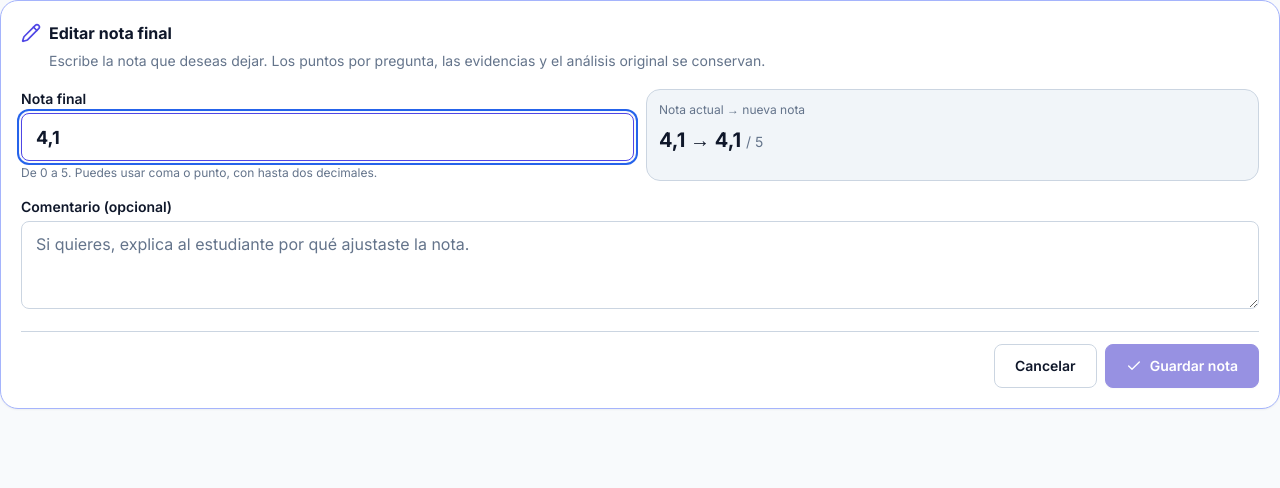
Test: GradeFinalEditor › termina el estado de guardado aunque falle la preparación local, sin enviar nada
The image size is (1280, 488).
Replace the text in the field labelled "Nota final" with "4.5" at (328,137), box [21,113,634,161]
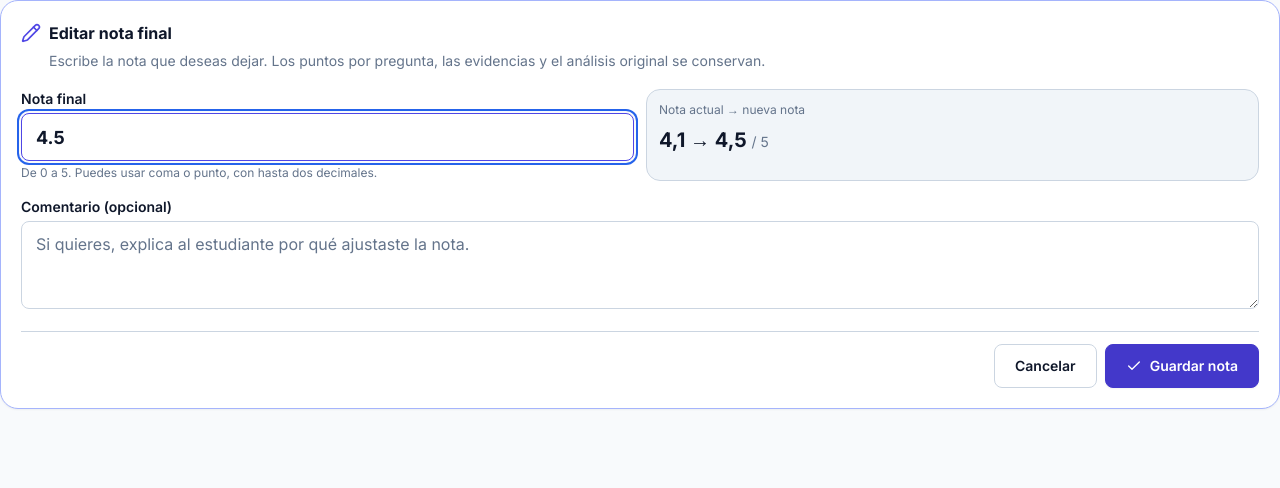
Click the button "Guardar nota" at (1182,366), box [1105,344,1259,388]
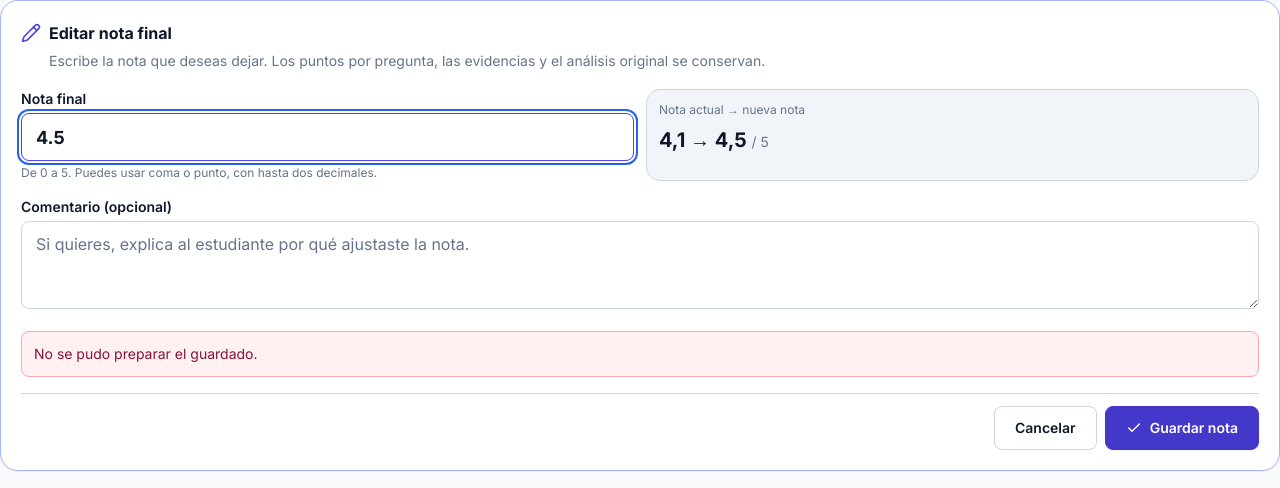
Expected: the button "Guardar nota" is enabled, [1105,406,1259,450]
Expected: the message "No se pudo preparar el guardado." is shown, [21,331,1259,377]
